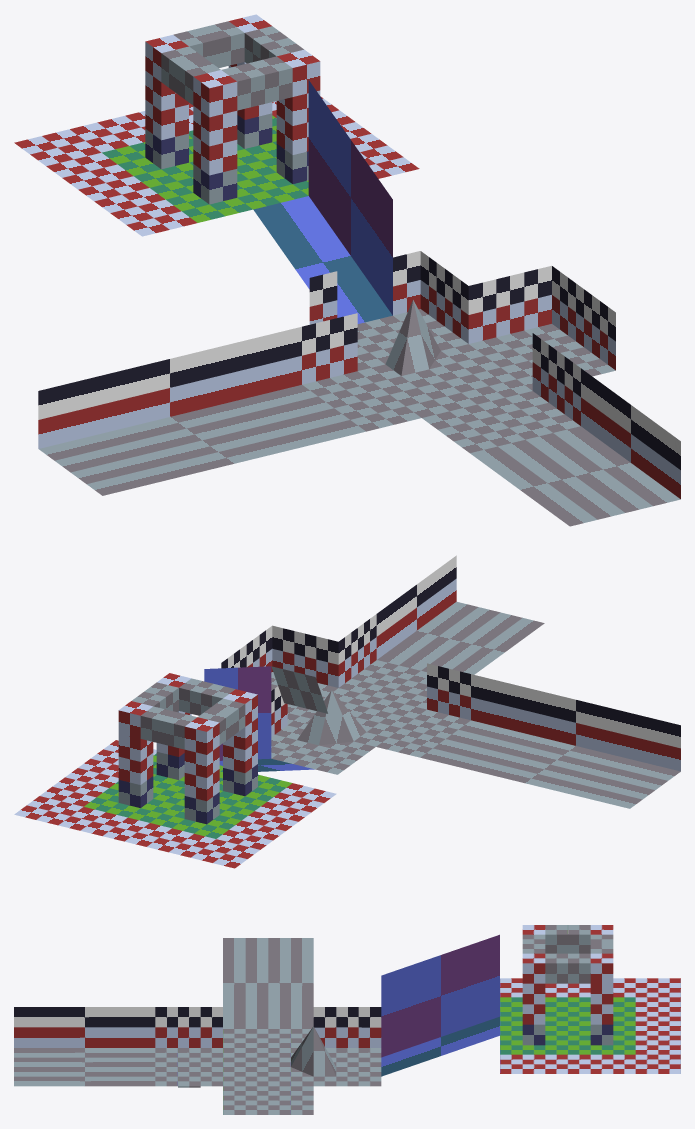
The model's file is lighttest.gltf.
3 views of the same model, one above another, from view 1: azimuth 30°, elevation 25°; view 2: azimuth 150°, elevation 25°; view 3: azimuth 270°, elevation 25° (orthographic). The views are drawn at different scales.
Size of the model in its own units: 37 by 14 by 59.
1 material, 1 textured.
